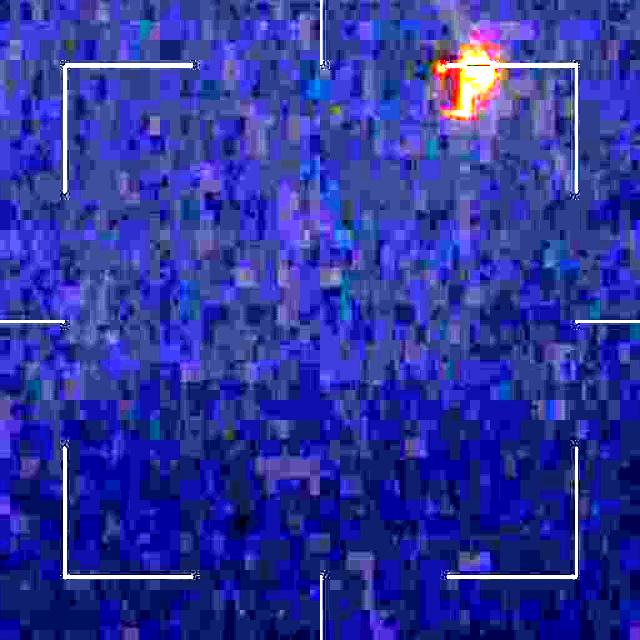bird: (419, 44, 492, 118)
